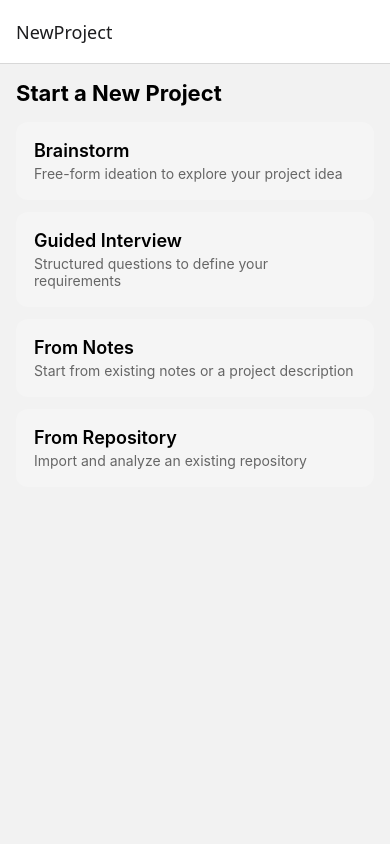
Test: NewProjectScreen › Continue button is disabled when initial input is empty
What coordinates should you click on to do the following:
click the element with test id "flow-card-from_notes"
I would click on:
 (195, 358)
Its box is x1=16 y1=319 x2=374 y2=397.
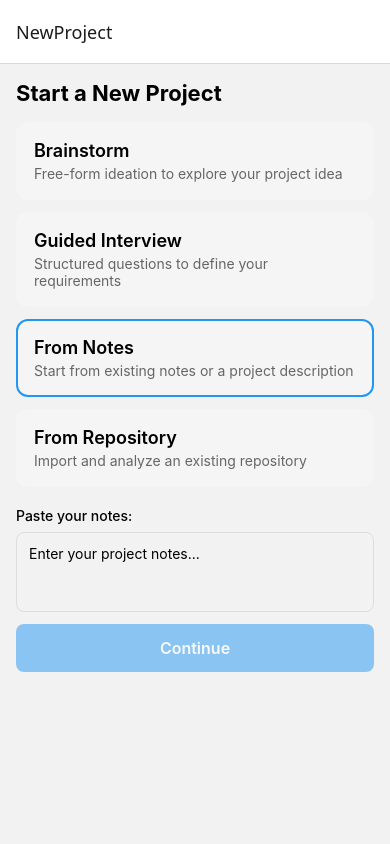
Result: the element with test id "continue-button" is disabled at x1=16 y1=624 x2=374 y2=672
